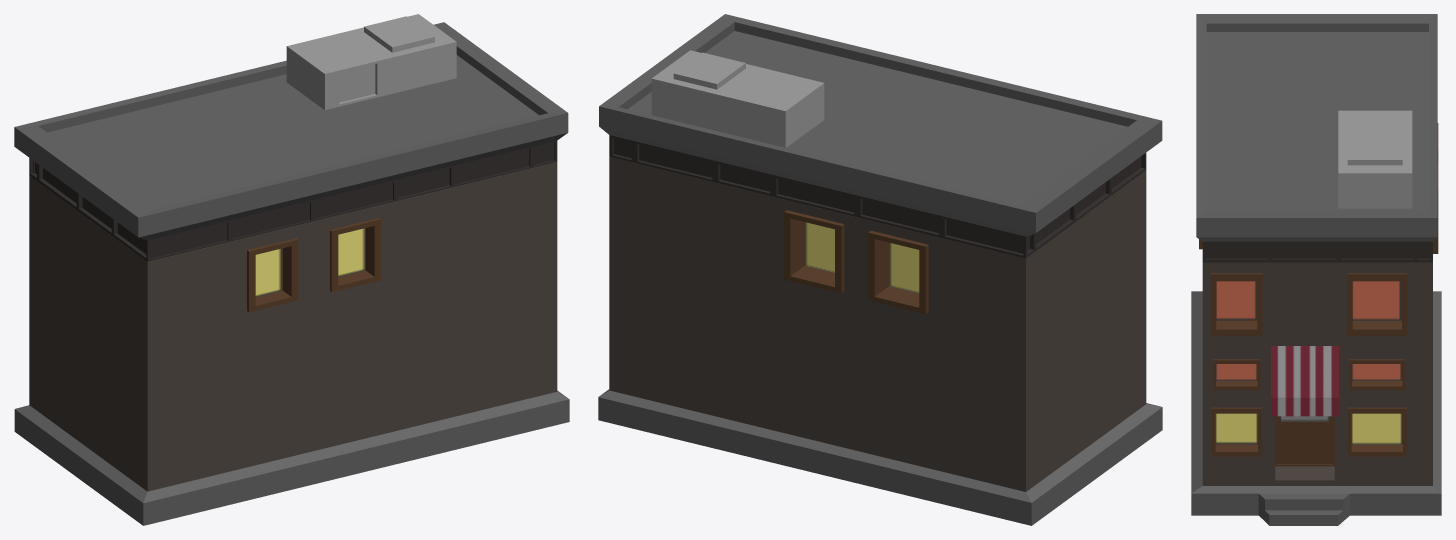
Rendered from House.obj.
3 views of the same model, side by side, from view 1: azimuth 30°, elevation 25°; view 2: azimuth 150°, elevation 25°; view 3: azimuth 270°, elevation 25° (orthographic). The views are drawn at different scales.
Parts seen in each view (by area): view 1: Cube; view 2: Cube; view 3: Cube.
Boxes of the visible parts, x1,y1,x2,y2 form: Cube: (14, 14, 569, 525); Cube: (598, 14, 1162, 525); Cube: (1191, 14, 1441, 525).
Size of the model in its own units: 15.42 by 11.08 by 7.63.
Materials: 1 (1 with a texture image).
